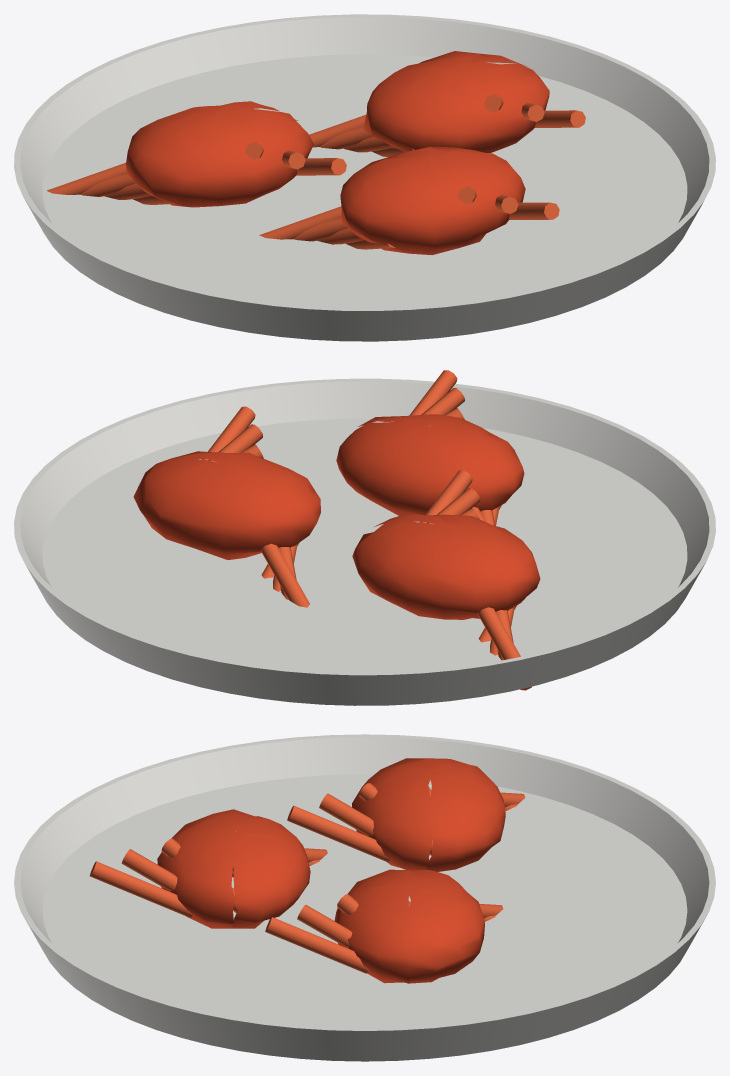
Rendered from caranguejo.glb.
3 renders of one model, top to bottom at view 1: azimuth 30°, elevation 25°; view 2: azimuth 150°, elevation 25°; view 3: azimuth 270°, elevation 25°, orthographic.
Visible parts, largest first — view 1: caranguejo; view 2: caranguejo; view 3: caranguejo.
Part boxes in pixels (x1,y1,x2,y2): caranguejo: (14,14,715,341); caranguejo: (14,370,715,705); caranguejo: (14,734,715,1061).
Size of the model in its own units: 0.32 by 0.0506 by 0.32.
